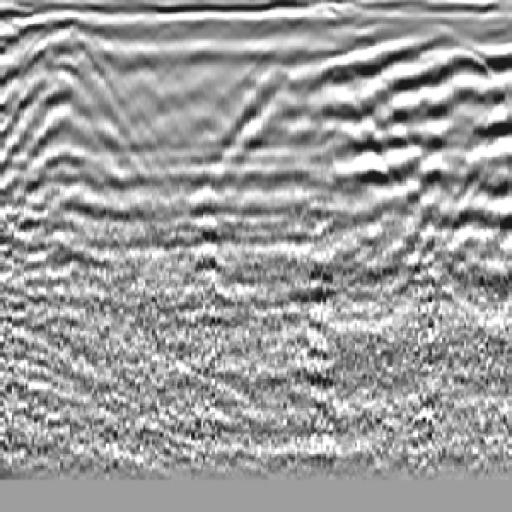non-metallic: (328, 49, 512, 240), (1, 20, 151, 206)
